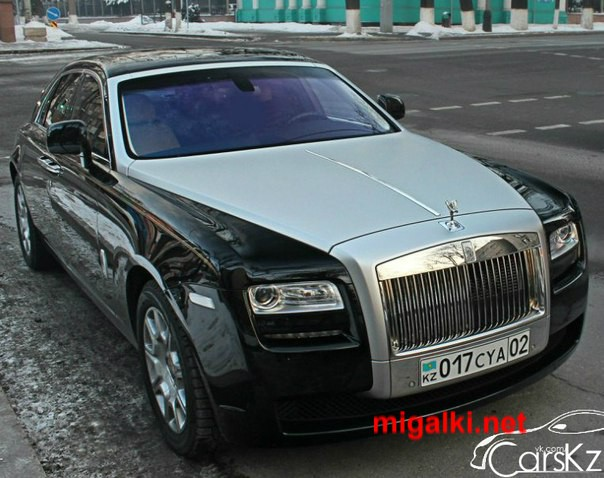license_plate: (415, 328, 538, 386)
